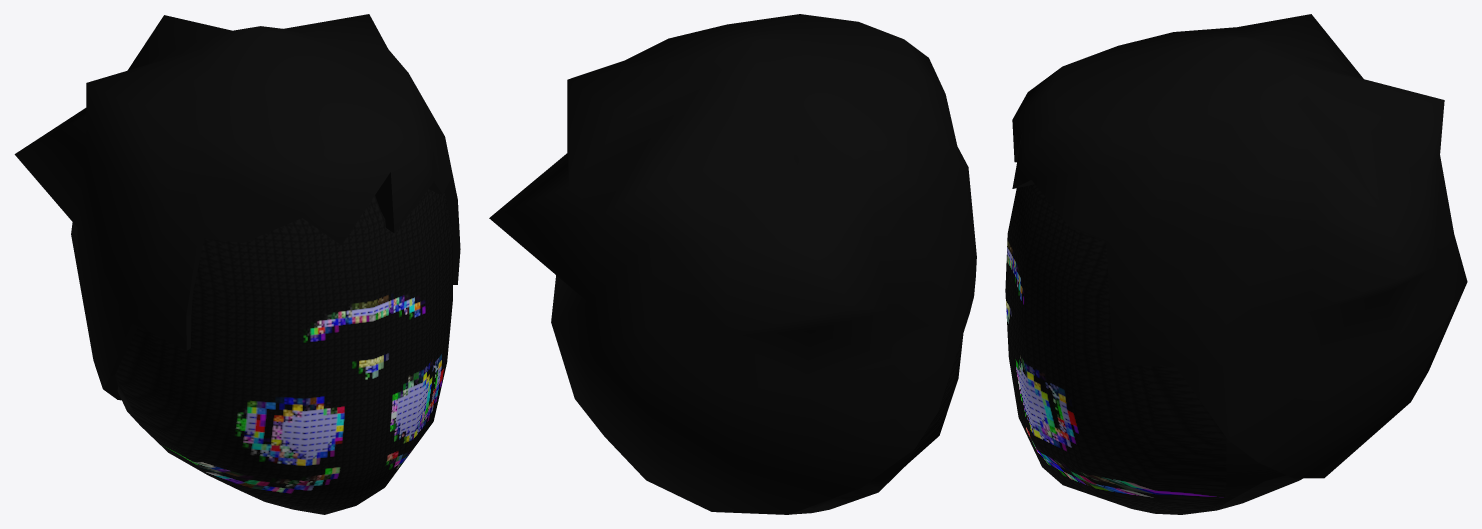
3 views of the same model, side by side, from view 1: azimuth 30°, elevation 25°; view 2: azimuth 150°, elevation 25°; view 3: azimuth 270°, elevation 25° (orthographic). The views are drawn at different scales.
Parts seen in each view (by area): view 1: Mii_Material; view 2: Mii_Material; view 3: Mii_Material.
Boxes of the visible parts, box(x1,y1,x2,y2) form: Mii_Material: box(14, 14, 460, 514); Mii_Material: box(489, 14, 976, 514); Mii_Material: box(1005, 14, 1467, 514).
Bounding box in the file's own units: 0.4337 × 0.5482 × 0.496.
1 material, 1 textured.
